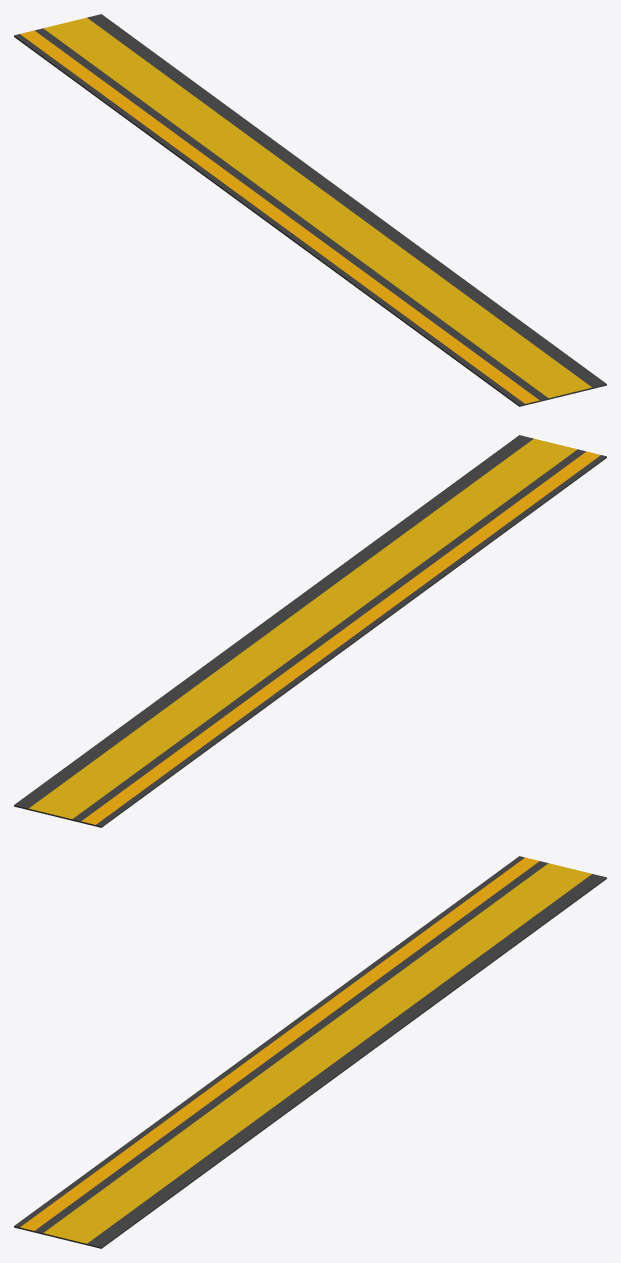
File: gteki_platform_edge_l6000_dots.glb
3 views of the same model, one above another, from view 1: azimuth 30°, elevation 25°; view 2: azimuth 150°, elevation 25°; view 3: azimuth 330°, elevation 25° (orthographic).
Parts seen in each view (by area): view 1: VIS_body; view 2: VIS_body; view 3: VIS_body.
Part boxes in pixels (x1,y1,x2,y2): VIS_body: (14, 14, 606, 406); VIS_body: (14, 435, 606, 827); VIS_body: (14, 856, 606, 1248).
Size of the model in its own units: 0.6 by 0.01 by 6.
1 material, 1 textured.
